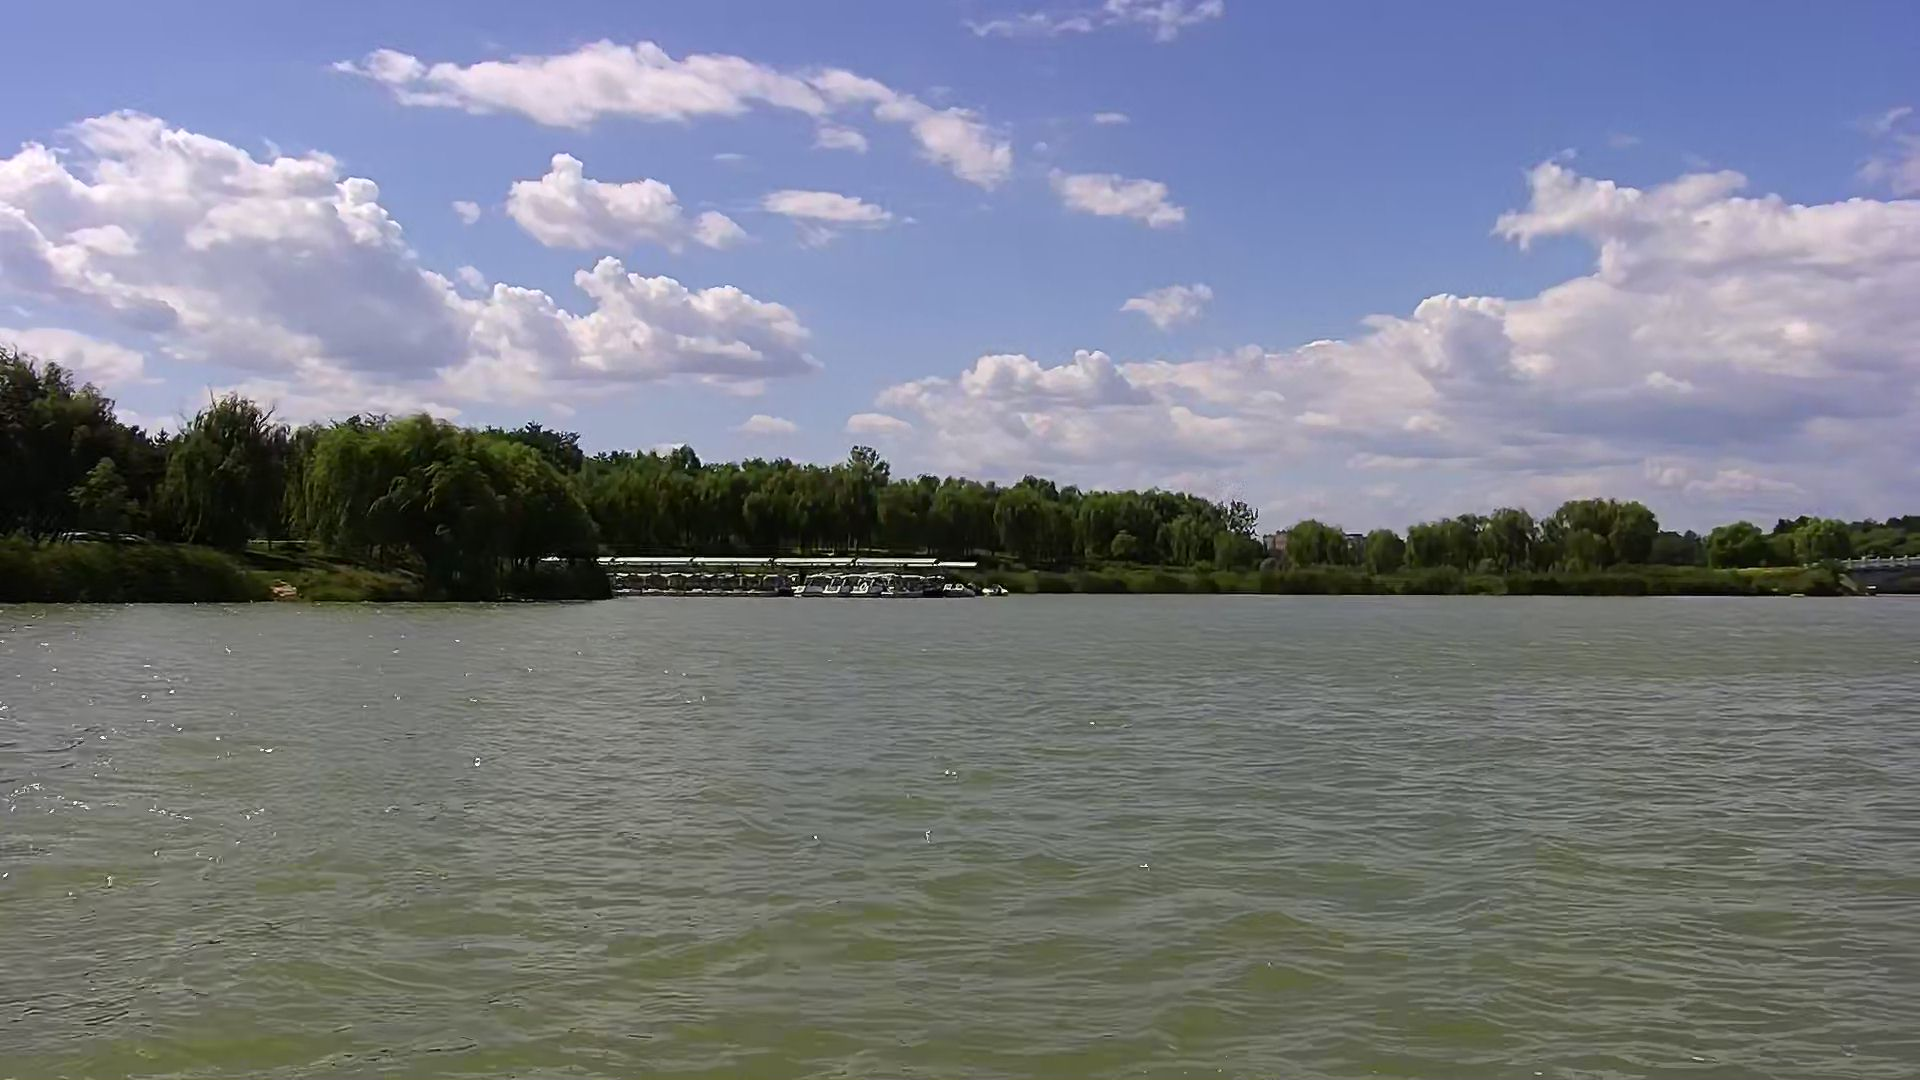harbor: (599, 555, 1007, 603)
